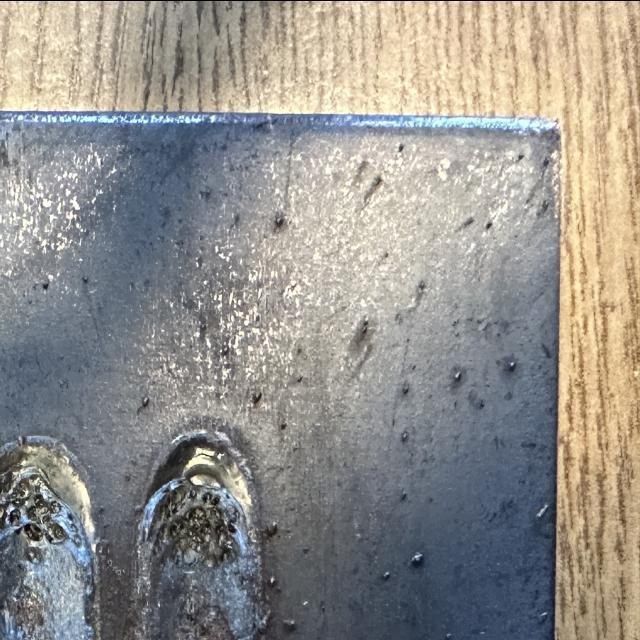Porosity: (139, 477, 249, 567), (29, 493, 56, 522), (1, 477, 29, 503), (44, 523, 68, 543), (22, 523, 42, 542), (0, 470, 15, 495), (4, 507, 21, 528), (22, 545, 40, 563), (1, 503, 10, 538), (295, 375, 302, 382)
Spatters: (264, 520, 278, 538), (535, 502, 549, 518), (274, 210, 284, 230), (282, 618, 296, 632), (411, 552, 424, 567), (538, 610, 549, 627), (220, 343, 230, 357), (251, 392, 261, 405), (401, 380, 409, 395), (541, 198, 549, 212), (140, 395, 149, 407), (508, 360, 516, 372), (401, 430, 408, 442), (400, 488, 406, 500), (444, 630, 452, 639), (269, 575, 276, 585), (42, 280, 49, 290), (454, 370, 461, 380), (199, 323, 206, 333), (382, 570, 390, 578), (81, 275, 89, 283), (543, 158, 549, 167), (280, 422, 286, 430)
